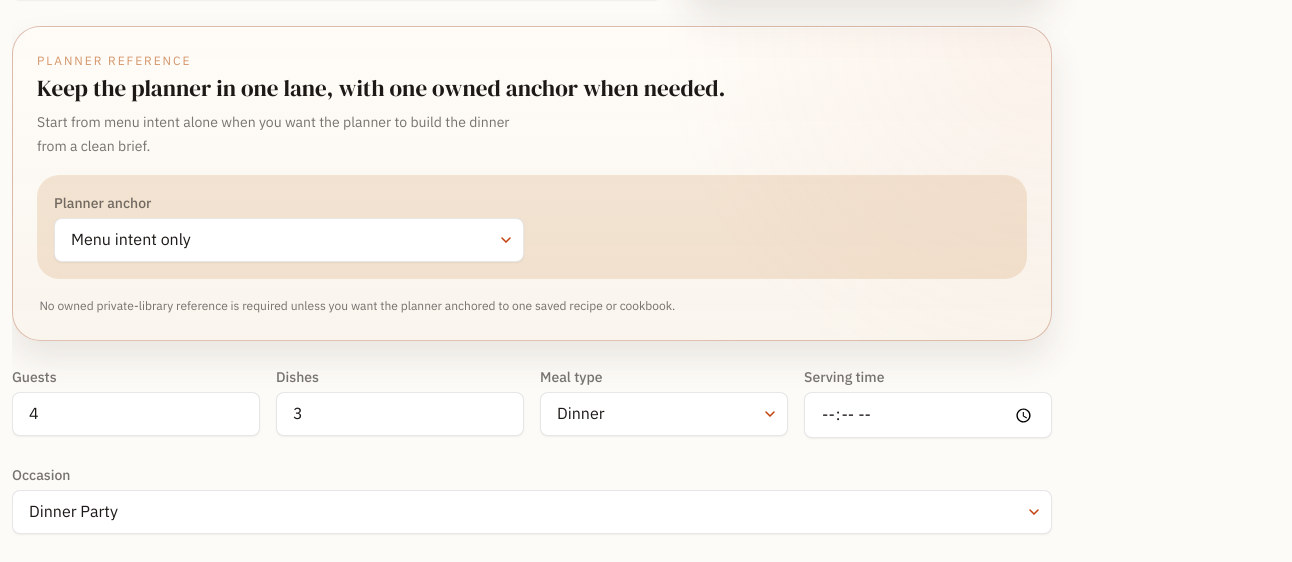
NewSessionPage › renders the planner lane with inline reference controls and guidance links
(page scrolled)
Expected: the number field labelled "Dishes" holds "3", x1=276 y1=392 x2=524 y2=436
Expected: the text "No owned private-library reference is required unless you want the planner anchored" is shown, x1=39 y1=298 x2=675 y2=313
Select "Saved recipe anchor" in the dropdown labelled "Planner anchor" at (289, 240), box x1=54 y1=218 x2=524 y2=262
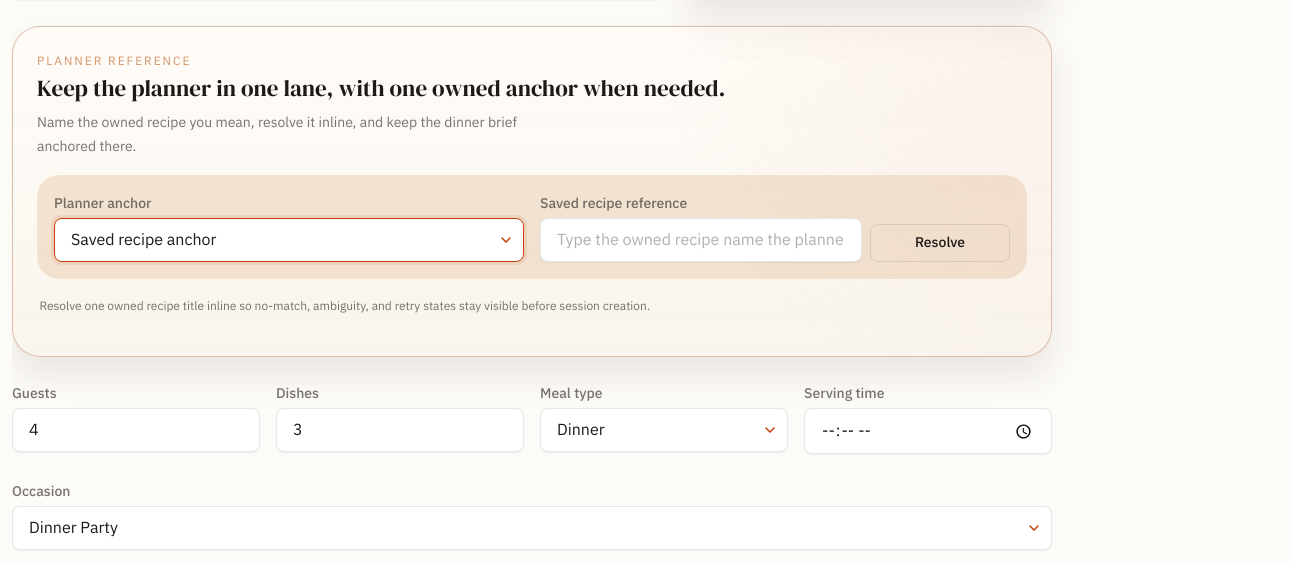
Expected: the field labelled "Saved recipe reference" is shown, x1=540 y1=218 x2=862 y2=262
Expected: the button "Resolve" is shown, x1=870 y1=224 x2=1010 y2=262
Expected: the text "Resolve one owned recipe title inline so no-match, ambiguity, and retry states stay visible" is shown, x1=39 y1=298 x2=650 y2=313
